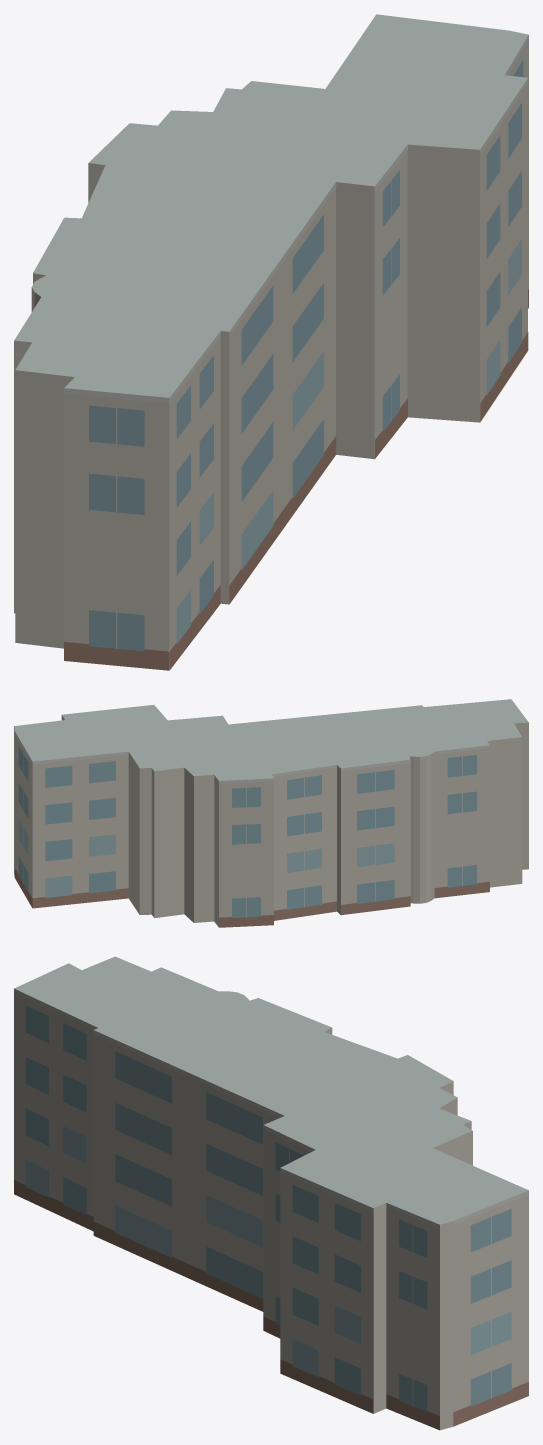
The model's file is survey-upis-32821026.glb.
The picture shows the model from 3 angles, top to bottom: view 1: azimuth 30°, elevation 25°; view 2: azimuth 150°, elevation 25°; view 3: azimuth 270°, elevation 25°; orthographic projection. The views are drawn at different scales.
Visible parts, largest first — view 1: survey-upis-32821026.tmp; view 2: survey-upis-32821026.tmp; view 3: survey-upis-32821026.tmp.
Boxes of the visible parts, <box> form: survey-upis-32821026.tmp: <box>14,14,528,670</box>; survey-upis-32821026.tmp: <box>14,699,528,927</box>; survey-upis-32821026.tmp: <box>14,956,528,1430</box>.
Size of the model in its own units: 34.12 by 12.2 by 27.68.
